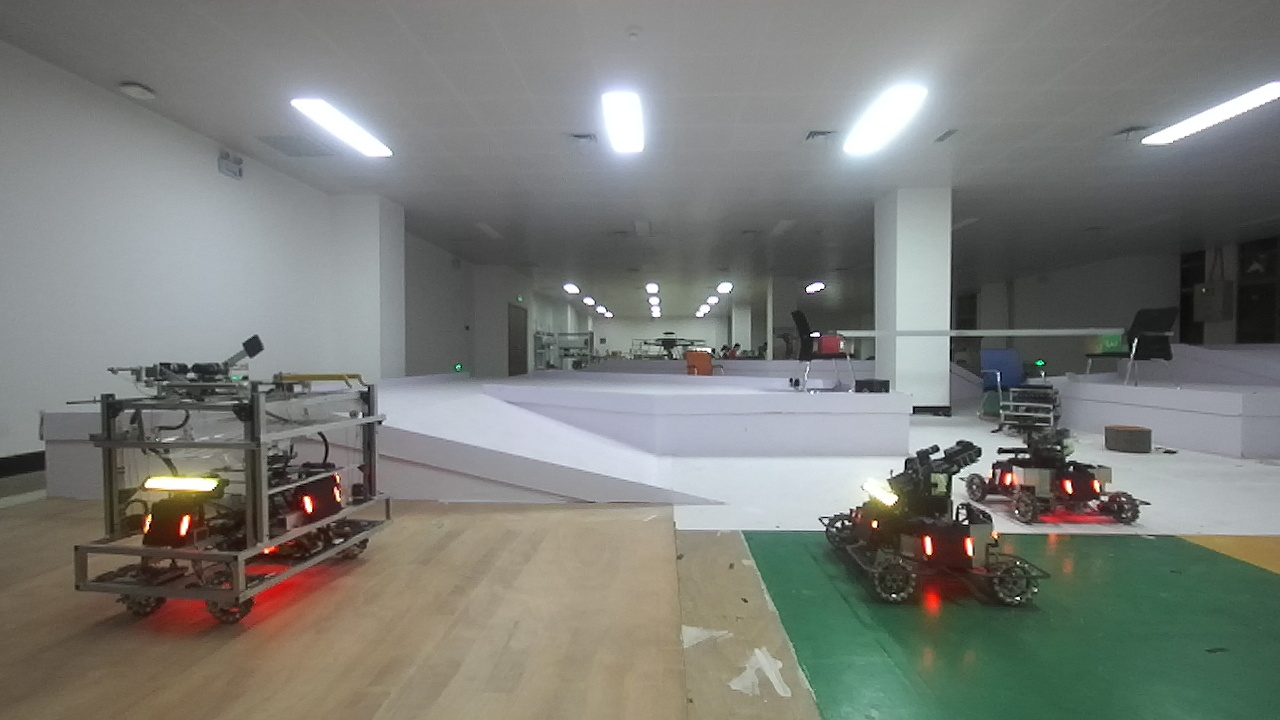car: (82, 333, 396, 620), (825, 449, 1034, 605), (967, 418, 1135, 537)
